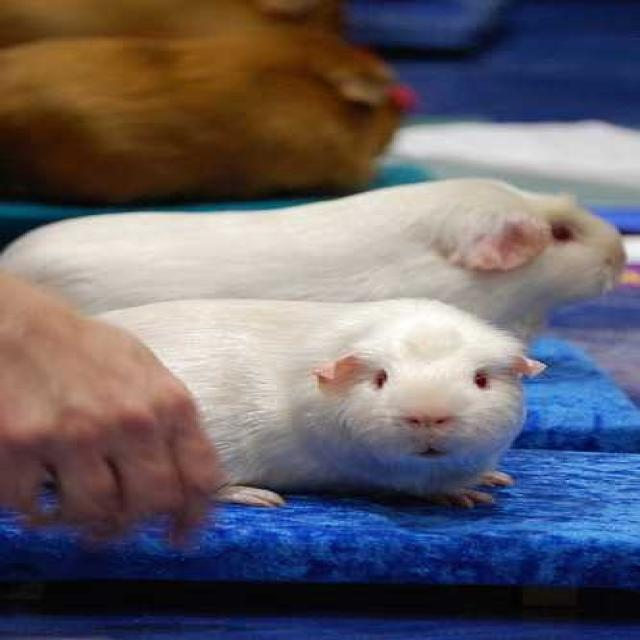guinea pig: (109, 303, 544, 523), (0, 178, 621, 326)
